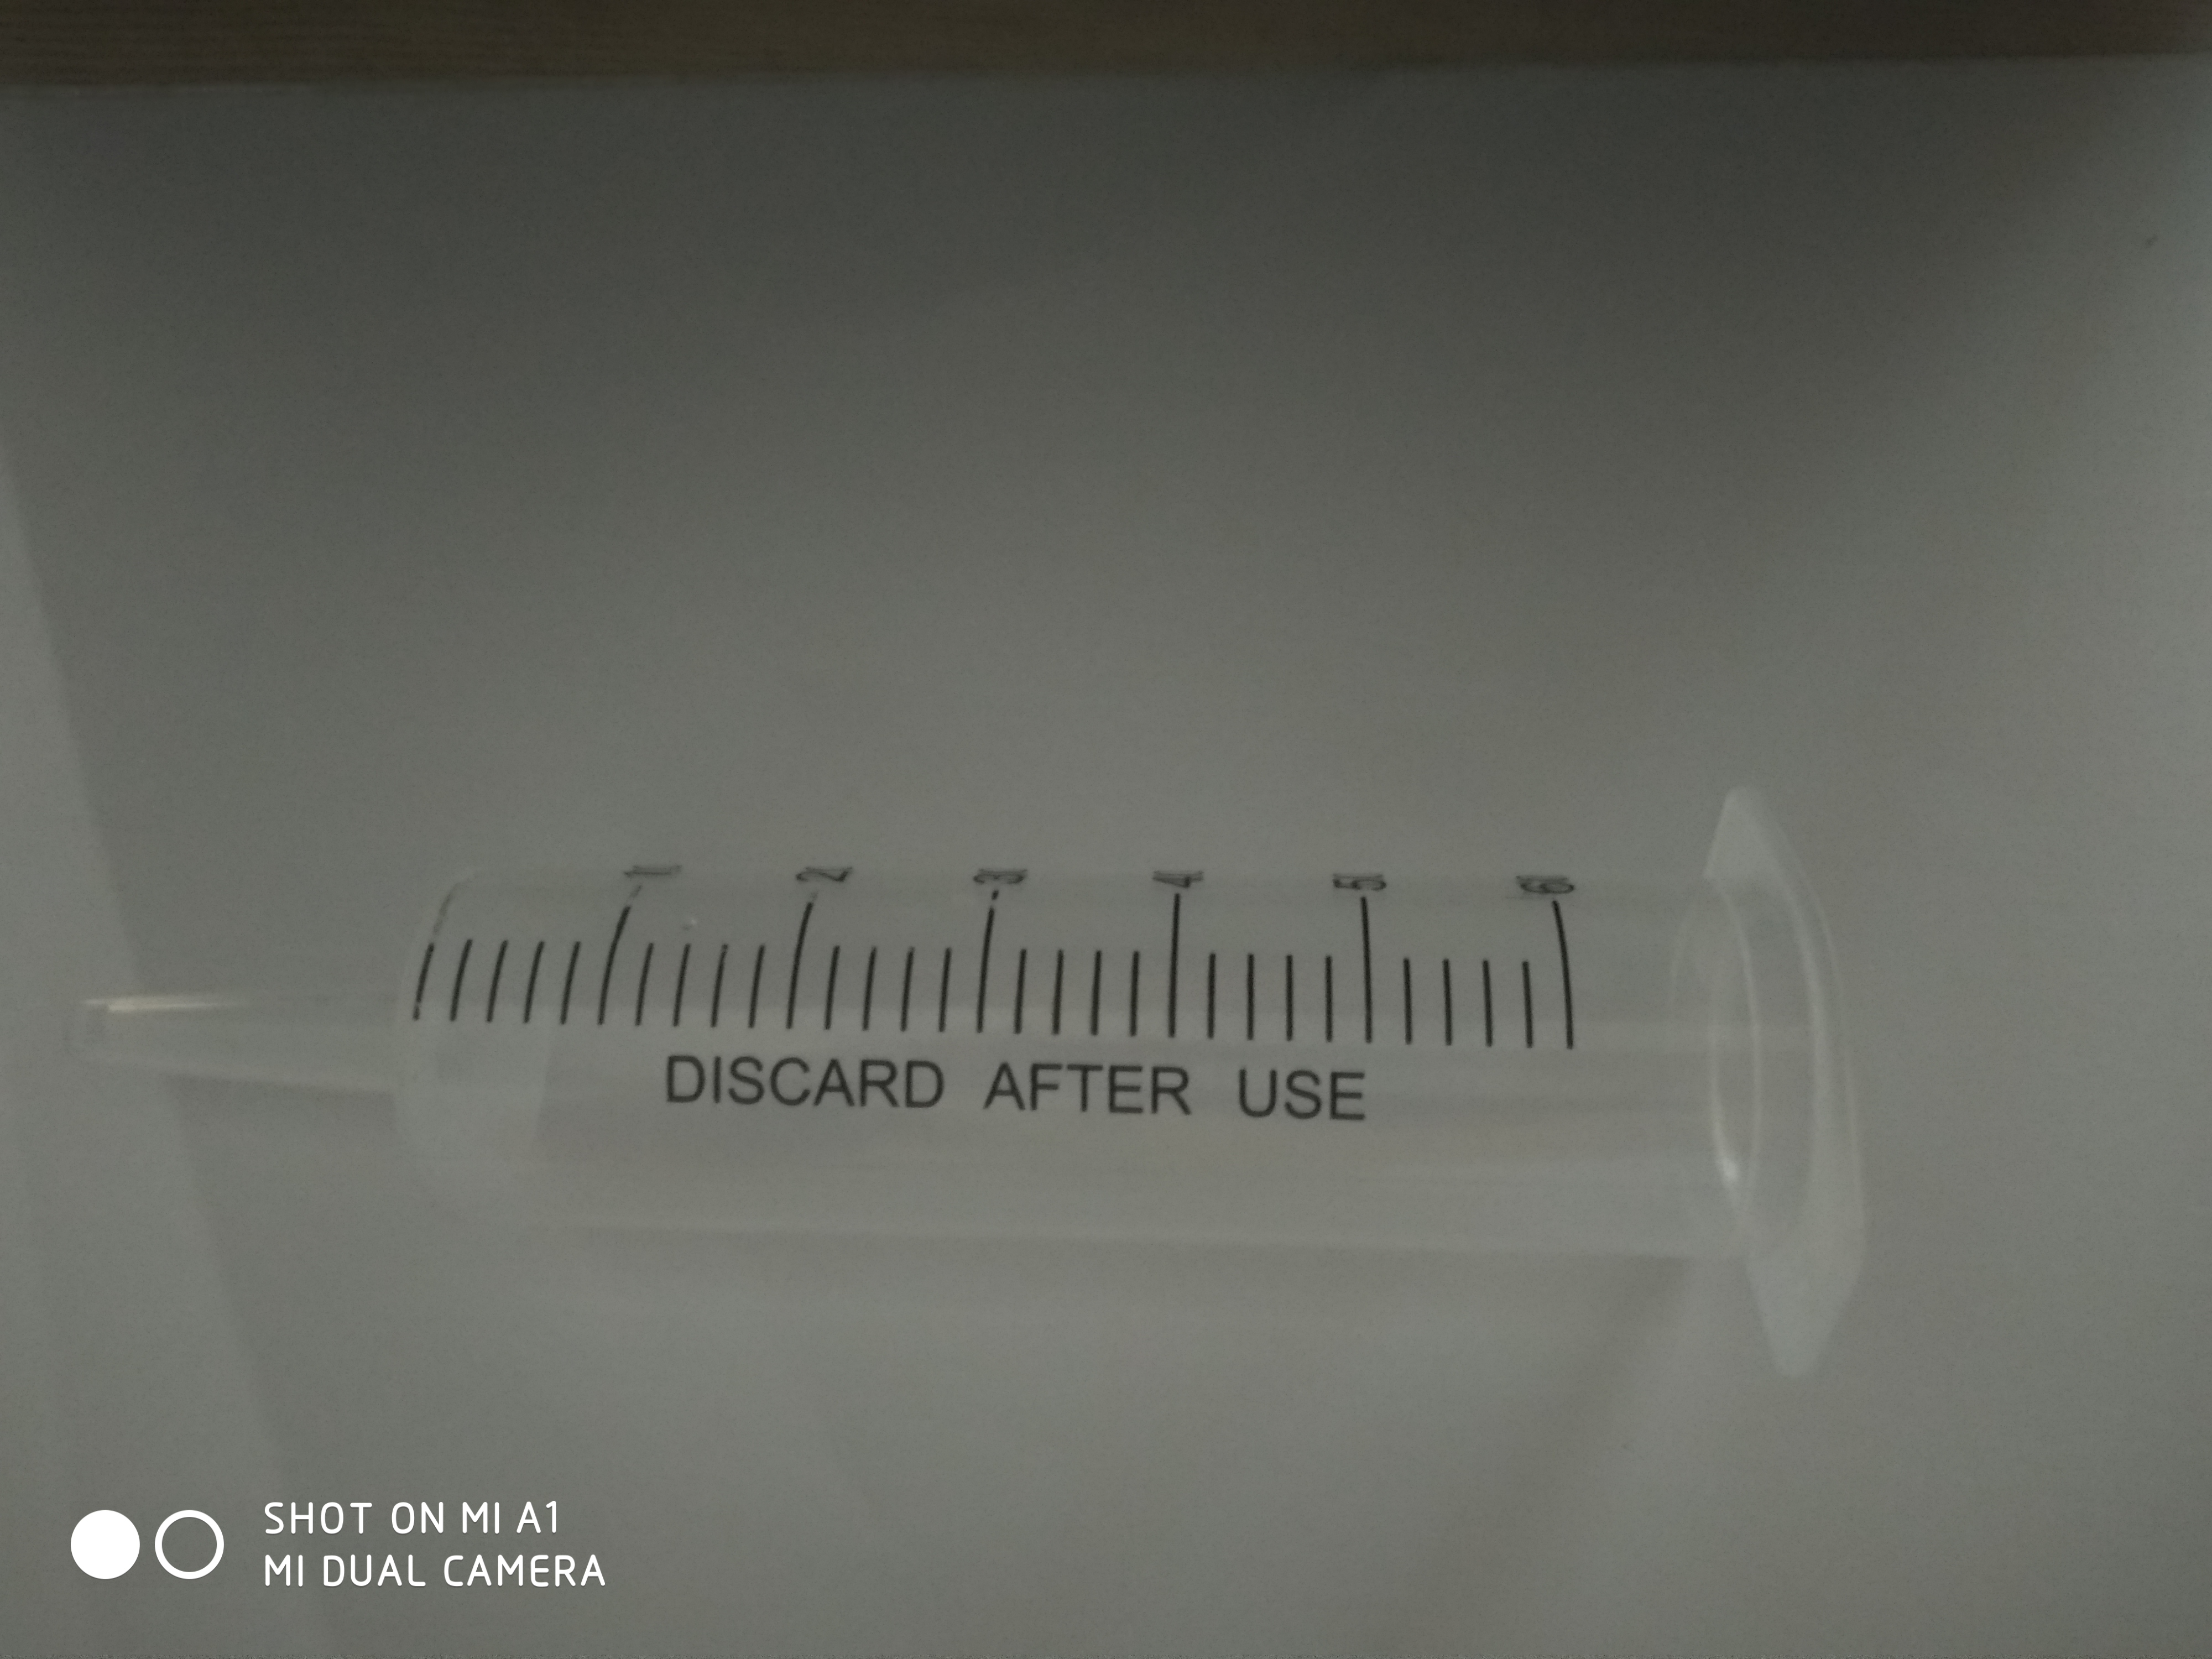syringe: (66, 781, 1876, 1387)
